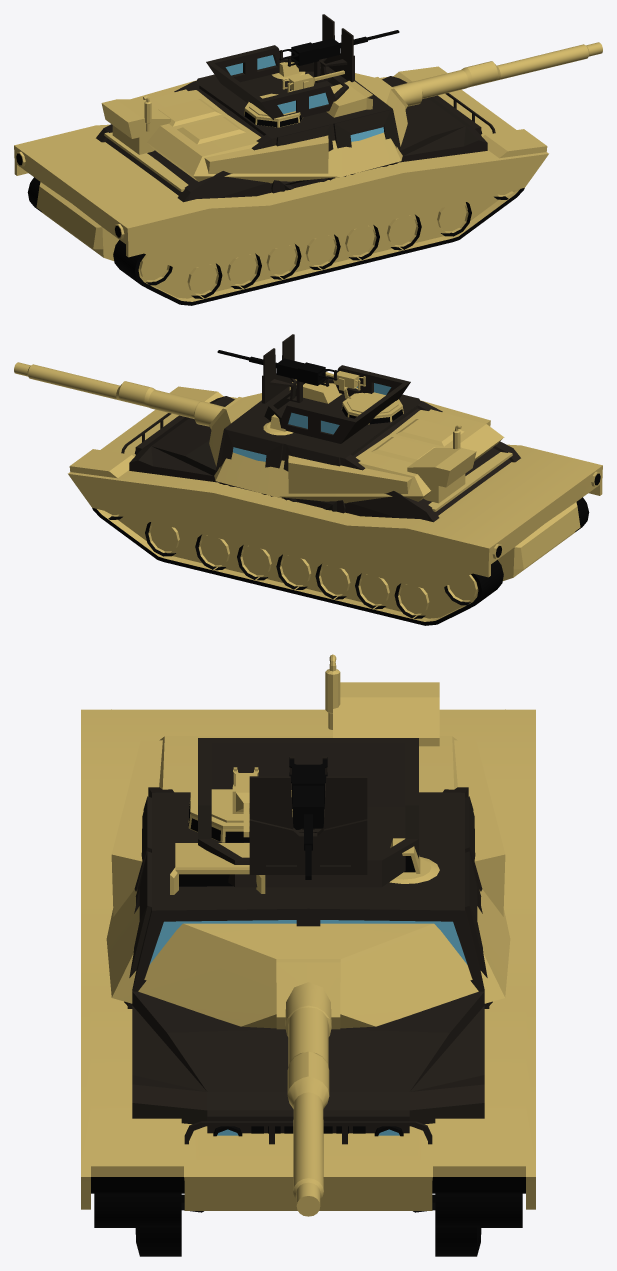
File: Humvees_Tank.fbx.glb
3 views of the same model, one above another, from view 1: azimuth 30°, elevation 25°; view 2: azimuth 150°, elevation 25°; view 3: azimuth 270°, elevation 25° (orthographic). The views are drawn at different scales.
Parts seen in each view (by area): view 1: TankBase.4, TankTurret.5, Humvee1.1, Humvee3.3, Humvee2.2; view 2: TankBase.4, TankTurret.5, Humvee1.1, Humvee3.3, Humvee2.2; view 3: TankBase.4, TankTurret.5, Humvee1.1, Humvee3.3, Humvee2.2.
Part boxes in pixels (x1=…): TankBase.4: x1=14, y1=66, x2=548, y2=305; TankTurret.5: x1=101, y1=42, x2=602, y2=191; Humvee1.1: x1=197, y1=55, x2=495, y2=197; Humvee3.3: x1=206, y1=14, x2=399, y2=119; Humvee2.2: x1=96, y1=76, x2=384, y2=202; TankBase.4: x1=68, y1=386, x2=602, y2=625; TankTurret.5: x1=14, y1=362, x2=512, y2=511; Humvee1.1: x1=121, y1=386, x2=419, y2=517; Humvee3.3: x1=217, y1=334, x2=410, y2=443; Humvee2.2: x1=232, y1=396, x2=520, y2=522; TankBase.4: x1=81, y1=709, x2=535, y2=1227; TankTurret.5: x1=106, y1=654, x2=510, y2=1216; Humvee1.1: x1=124, y1=794, x2=492, y2=1256; Humvee3.3: x1=198, y1=738, x2=418, y2=887; Humvee2.2: x1=135, y1=787, x2=481, y2=912.
Bounding box in the file's own units: 789 × 275 × 290.
